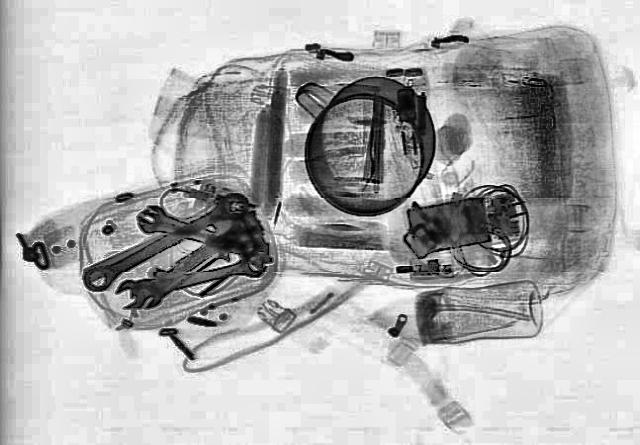Wrench: (70, 188, 262, 294), (106, 248, 270, 312), (126, 200, 278, 266)
